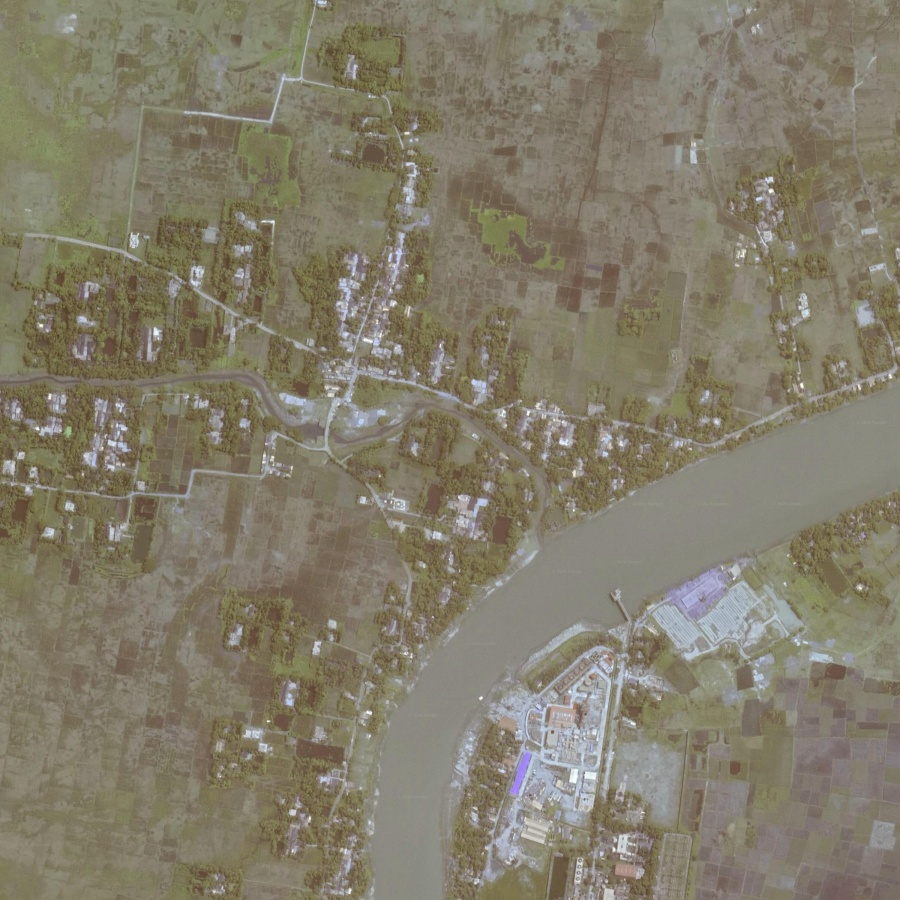PowerPlant: (537, 657, 608, 812)
